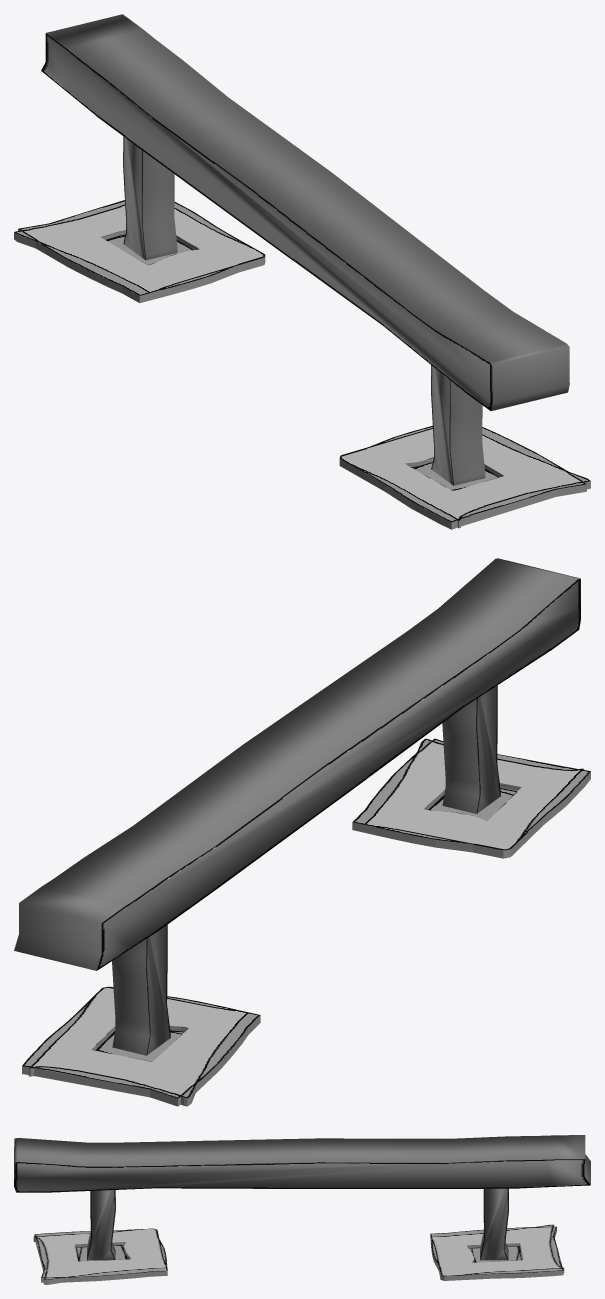
File: SkatePole.fbx
3 views of the same model, one above another, from view 1: azimuth 30°, elevation 25°; view 2: azimuth 150°, elevation 25°; view 3: azimuth 270°, elevation 25° (orthographic). The views are drawn at different scales.
Parts seen in each view (by area): view 1: Cube.002; view 2: Cube.002; view 3: Cube.002.
Part boxes in pixels (<box>): Cube.002: <box>14,14,590,529</box>; Cube.002: <box>14,558,590,1106</box>; Cube.002: <box>14,1135,590,1284</box>.
Size of the model in its own units: 124 by 117 by 545.
